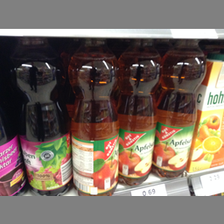juice: (10, 37, 72, 195), (67, 36, 119, 194), (154, 39, 206, 179), (114, 40, 158, 186)
